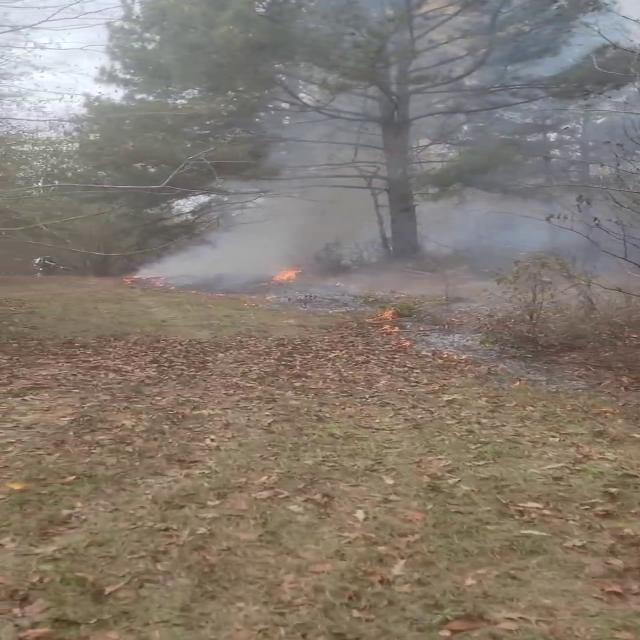Fire: (268, 262, 306, 286)
Smoke: (134, 0, 628, 314)
